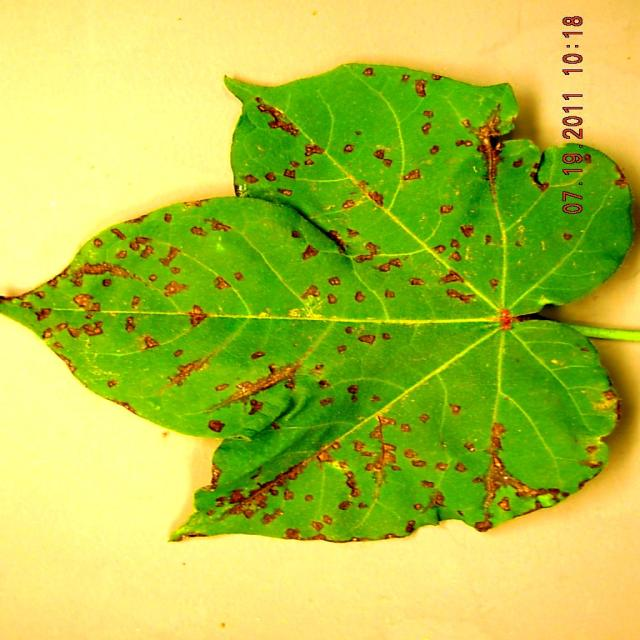Bacterial Blight: (113, 238, 544, 496)
